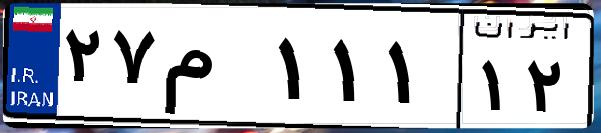1: (270, 28, 330, 110), (385, 28, 445, 110), (330, 28, 385, 110), (475, 38, 525, 113)
2: (57, 26, 110, 100), (525, 38, 570, 115)
7: (110, 28, 158, 98)
م: (158, 20, 270, 120)
